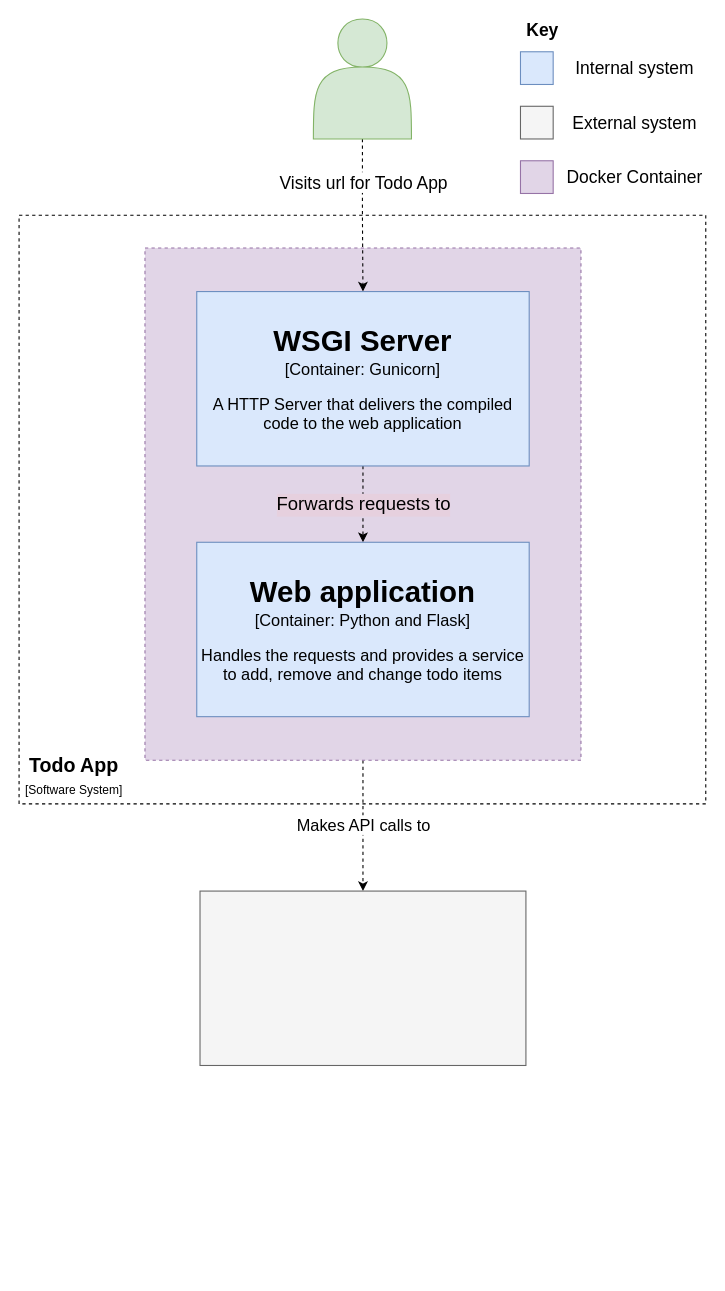
This 725x1291 diagram has some shape labels left out. The shapes that lost their labels are listed below. From the top down, each one's centre as x and y in pixels, then its label:
point (361, 78): User
point (362, 977): Trello [Software System] Stores current state of all todo items
